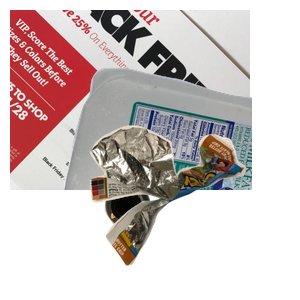glass: (102, 181, 246, 300)
paper: (10, 10, 250, 190)
plastic: (60, 65, 300, 245)
trash: (88, 123, 300, 300)
